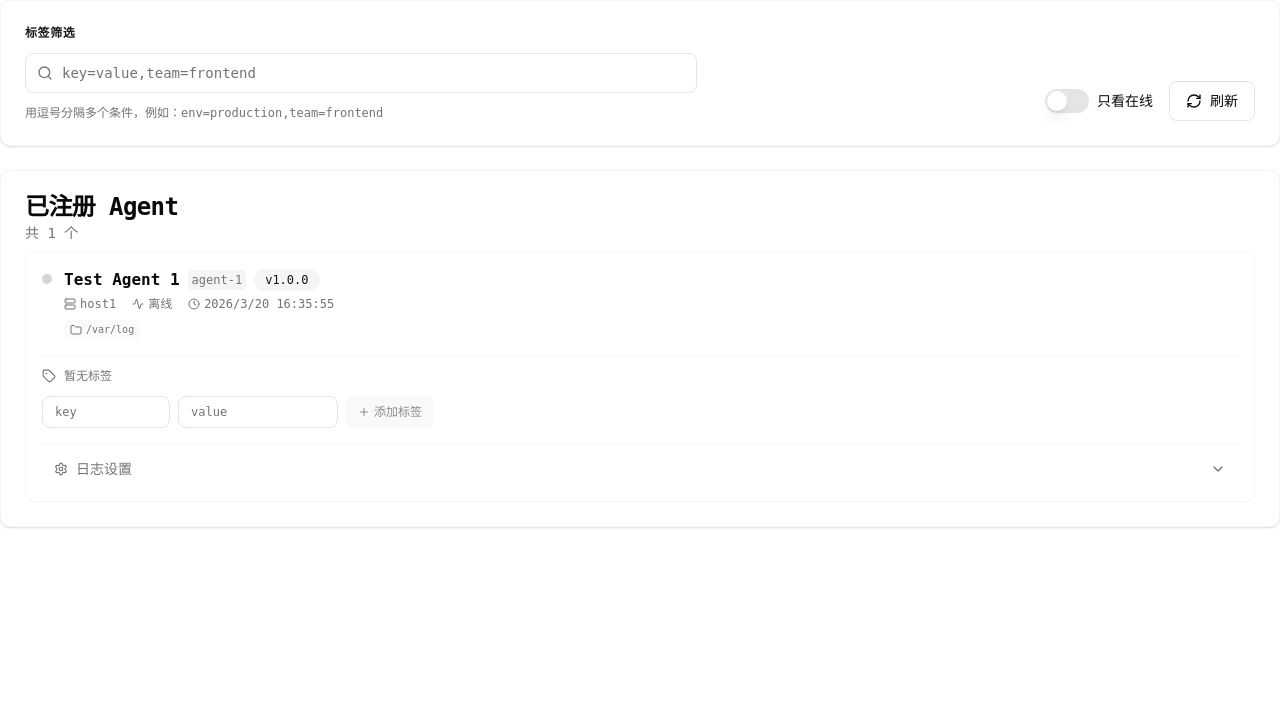
it: 日志设置 - Agent 离线时禁用表单
This screenshot has width=1280, height=720.
Click the button "日志设置".
click(104, 469)  # box [42,453,1238,485]
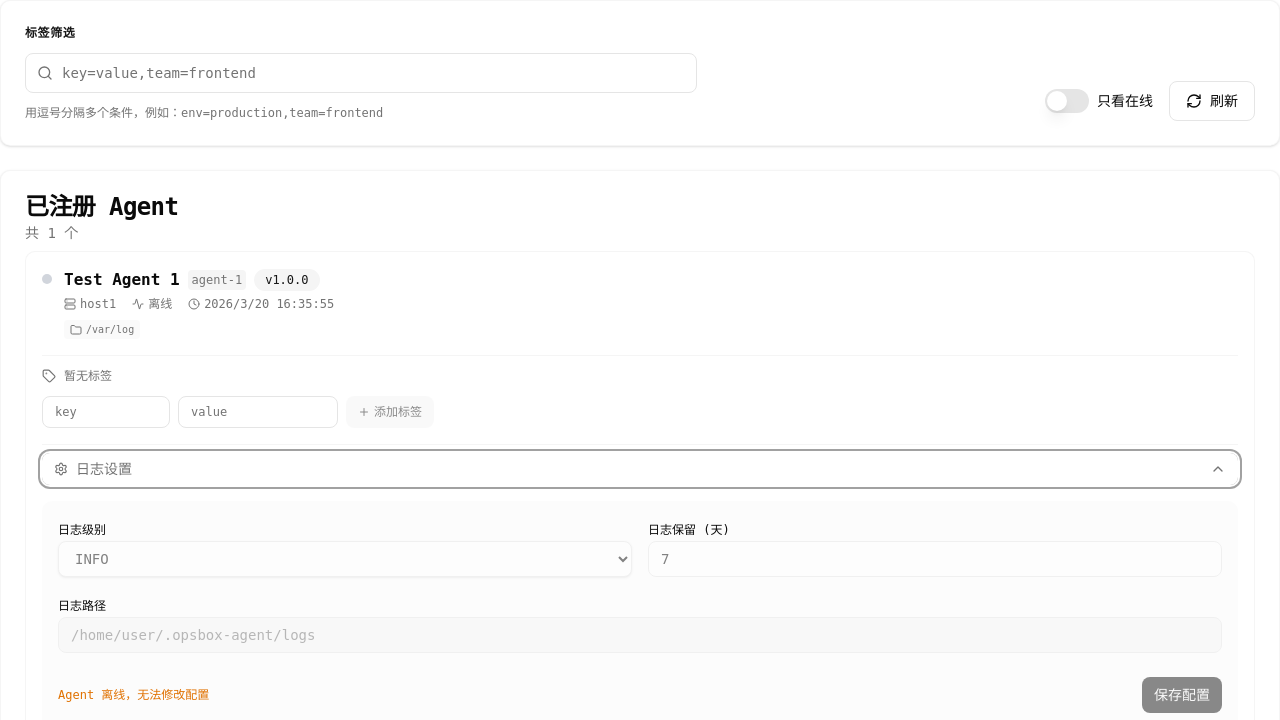
expect the dropdown is disabled: met, box [58,541,632,577]
expect the text "Agent 离线，无法修改配置" is shown: met, box [58,688,209,702]
